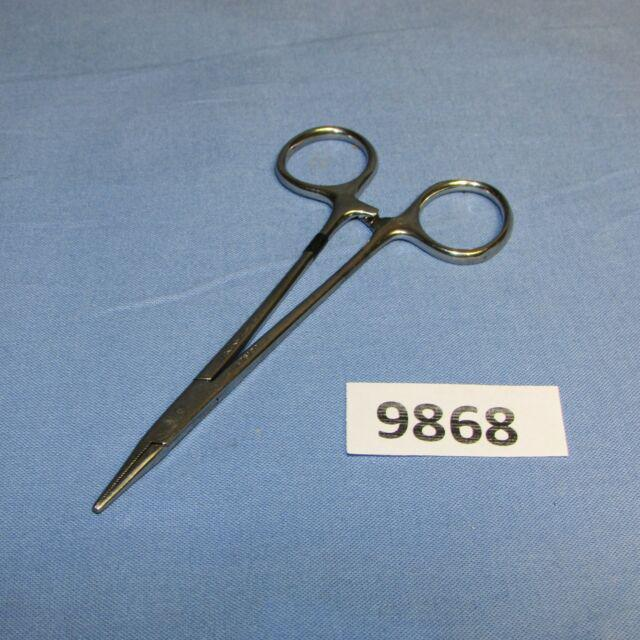Hemostat: (87, 118, 517, 518)
